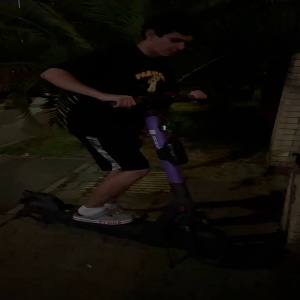human on a scooter: (15, 4, 234, 262)
